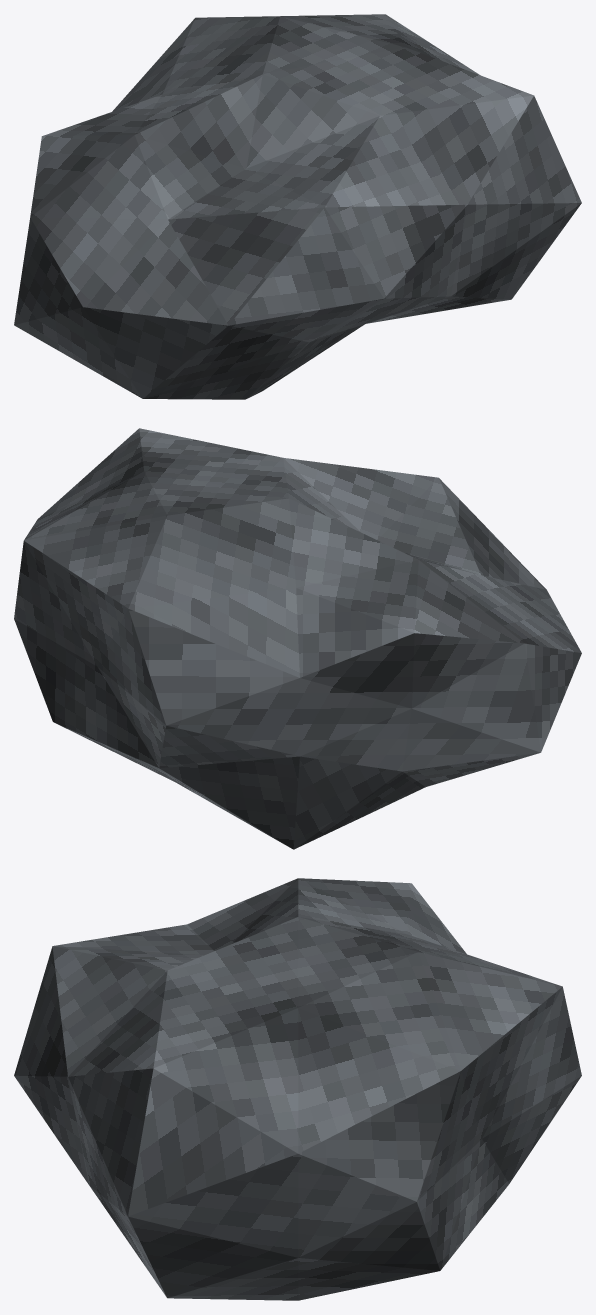
Rendered from Astreroid_4.fbx.
3 renders of one model, top to bottom at view 1: azimuth 30°, elevation 25°; view 2: azimuth 150°, elevation 25°; view 3: azimuth 270°, elevation 25°, orthographic. The views are drawn at different scales.
Parts seen in each view (by area): view 1: Asteroid_LowPoly; view 2: Asteroid_LowPoly; view 3: Asteroid_LowPoly.
Boxes of the visible parts, <box> form: Asteroid_LowPoly: <box>14,14,581,399</box>; Asteroid_LowPoly: <box>14,428,581,849</box>; Asteroid_LowPoly: <box>14,878,581,1300</box>.
Size of the model in its own units: 532 by 328 by 450.
